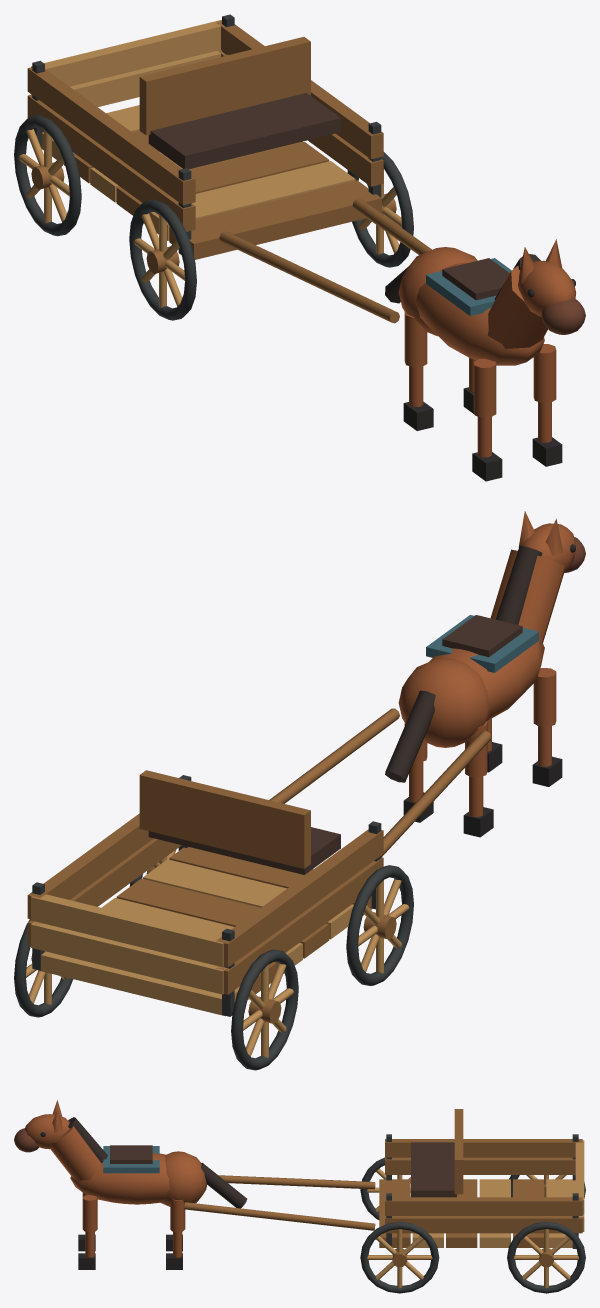
The model's file is carriage.glb.
3 renders of one model, top to bottom at view 1: azimuth 30°, elevation 25°; view 2: azimuth 150°, elevation 25°; view 3: azimuth 270°, elevation 25°, orthographic. The views are drawn at different scales.
Visible parts, largest first — view 1: cart, cart-wheel-spin (×3), procedural-horse, drawbars, saddle, horse-leg-0, horse-leg-1, horse-leg-2; view 2: cart, procedural-horse, cart-wheel-spin (×3), drawbars, saddle, horse-leg-0, horse-leg-2, horse-leg-3; view 3: cart, procedural-horse, cart-wheel-spin (×4), drawbars, saddle, horse-leg-1, horse-leg-3.
Boxes of the visible parts, box(x1,y1,x2,y2) form: cart: box(27, 14, 383, 259); cart-wheel-spin (×3): box(14, 115, 413, 320); procedural-horse: box(385, 239, 585, 365); drawbars: box(219, 198, 431, 323); saddle: box(426, 258, 511, 316); horse-leg-0: box(472, 358, 502, 481); horse-leg-1: box(532, 344, 562, 466); horse-leg-2: box(403, 311, 433, 430); cart: box(27, 770, 383, 1016); procedural-horse: box(385, 511, 585, 782); cart-wheel-spin (×3): box(14, 865, 413, 1070); drawbars: box(269, 708, 491, 857); saddle: box(426, 615, 538, 672); horse-leg-0: box(532, 668, 562, 786); horse-leg-2: box(463, 721, 493, 837); horse-leg-3: box(403, 723, 433, 822); cart: box(379, 1109, 584, 1248); procedural-horse: box(14, 1100, 247, 1208); cart-wheel-spin (×4): box(360, 1157, 585, 1293); drawbars: box(184, 1175, 375, 1230); saddle: box(103, 1145, 159, 1173); horse-leg-1: box(78, 1195, 97, 1269); horse-leg-3: box(166, 1199, 185, 1269).
Size of the model in its own units: 2.46 by 2.41 by 8.04.
